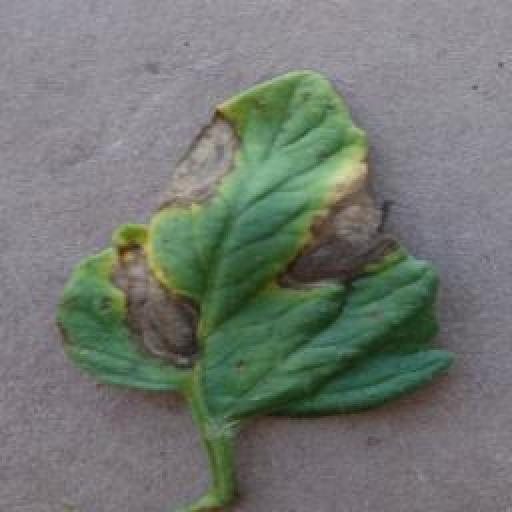disease_tomato: (55, 64, 464, 423)
